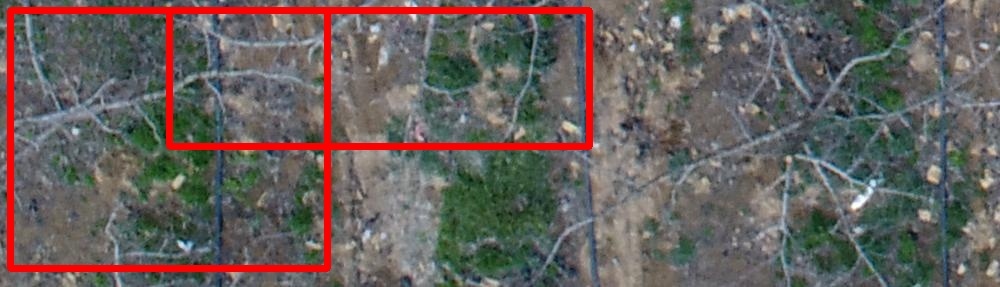apple: (10, 10, 327, 268), (169, 10, 589, 146)
